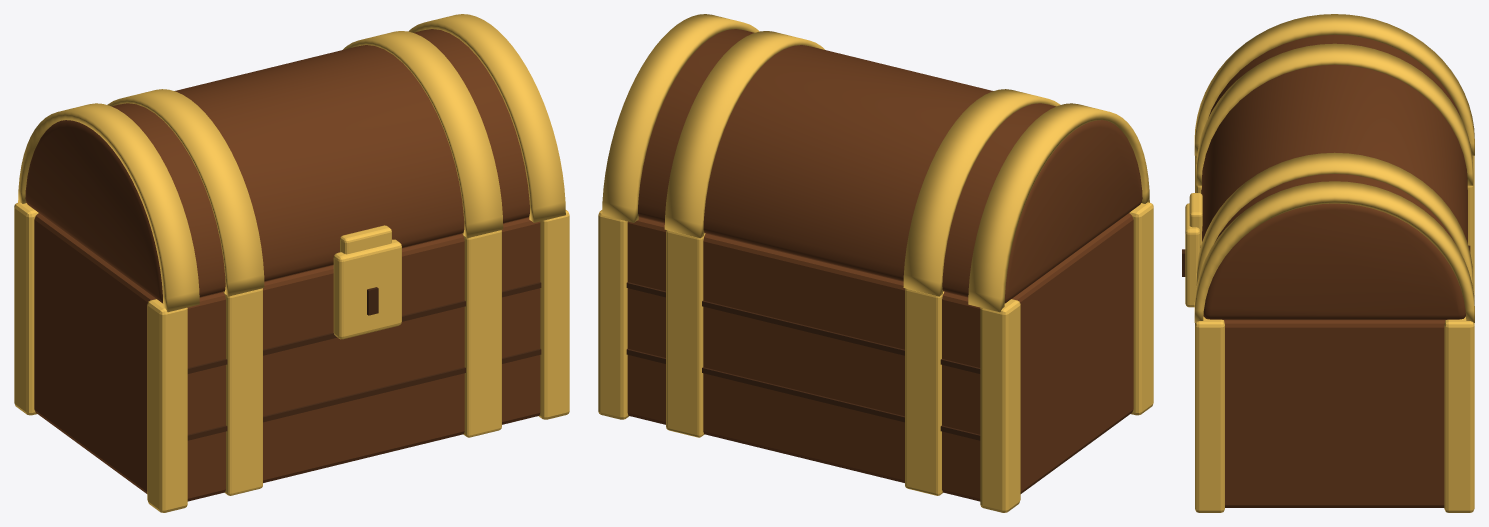
Rendered from chest.glb.
3 views of the same model, side by side, from view 1: azimuth 30°, elevation 25°; view 2: azimuth 150°, elevation 25°; view 3: azimuth 270°, elevation 25° (orthographic). The views are drawn at different scales.
Visible parts, largest first — view 1: chest_base, lid_shell, corners, lid_edge, lid_band.001, lid_band, lid_edge.001, band.002, band.001, lock, plank, plank.002 (+1 smaller); view 2: chest_base, lid_shell, corners, lid_edge, lid_band.001, lid_band, lid_edge.001, band.002, band.001, plank.001, plank.003; view 3: lid_shell, chest_base, corners, lid_edge.001, lid_edge, lid_band, lid_band.001, lock, lid_clasp, band.001.
Part boxes in pixels (x1=…): chest_base: x1=34, y1=213, x2=540, y2=501; lid_shell: x1=25, y1=29, x2=529, y2=303; corners: x1=14, y1=202, x2=569, y2=512; lid_edge: x1=18, y1=103, x2=199, y2=312; lid_band.001: x1=343, y1=31, x2=503, y2=238; lid_band: x1=107, y1=89, x2=264, y2=296; lid_edge.001: x1=408, y1=14, x2=565, y2=222; band.002: x1=462, y1=230, x2=501, y2=437; band.001: x1=223, y1=288, x2=262, y2=495; lock: x1=333, y1=239, x2=401, y2=339; plank: x1=187, y1=348, x2=541, y2=440; plank.002: x1=187, y1=282, x2=541, y2=373; chest_base: x1=627, y1=213, x2=1133, y2=501; lid_shell: x1=638, y1=29, x2=1142, y2=303; corners: x1=598, y1=202, x2=1153, y2=512; lid_edge: x1=968, y1=103, x2=1149, y2=312; lid_band.001: x1=664, y1=31, x2=824, y2=238; lid_band: x1=903, y1=89, x2=1060, y2=296; lid_edge.001: x1=602, y1=14, x2=759, y2=222; band.002: x1=666, y1=230, x2=705, y2=437; band.001: x1=905, y1=288, x2=944, y2=495; plank.001: x1=626, y1=348, x2=980, y2=440; plank.003: x1=626, y1=282, x2=980, y2=373; lid_shell: x1=1202, y1=34, x2=1467, y2=319; chest_base: x1=1201, y1=189, x2=1467, y2=507; corners: x1=1195, y1=155, x2=1474, y2=512; lid_edge.001: x1=1194, y1=181, x2=1474, y2=322; lid_edge: x1=1194, y1=14, x2=1474, y2=155; lid_band: x1=1196, y1=43, x2=1473, y2=185; lid_band.001: x1=1196, y1=152, x2=1473, y2=288; lock: x1=1185, y1=203, x2=1200, y2=307; lid_clasp: x1=1189, y1=193, x2=1202, y2=246; band.001: x1=1196, y1=185, x2=1473, y2=276.
Size of the model in its own units: 1.03 by 0.811 by 0.681.
